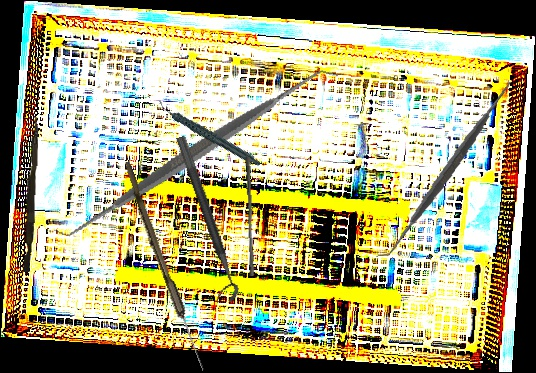Fixation Ring: (162, 135, 242, 306)
Handpiece: (156, 82, 262, 185)
Pusher: (22, 116, 40, 273), (240, 156, 259, 277)
Spatula Surgical: (53, 8, 339, 298), (362, 81, 536, 257)
Surgical Spoon: (119, 160, 209, 373)
